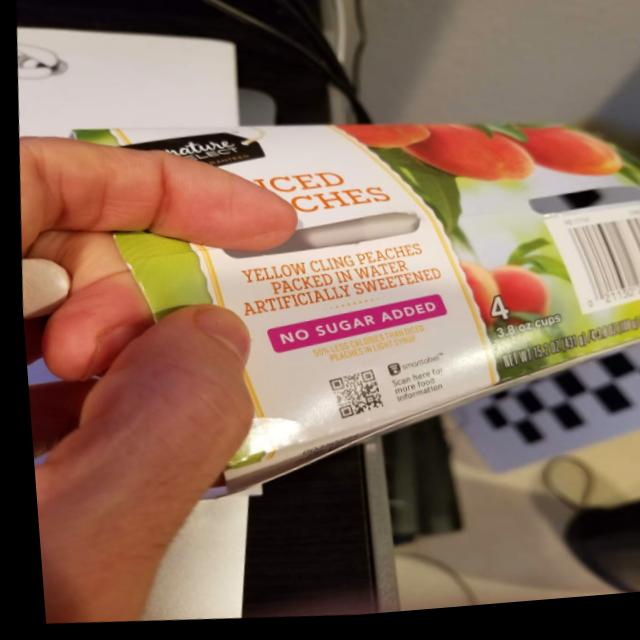QR_CODE: (308, 359, 401, 433)
